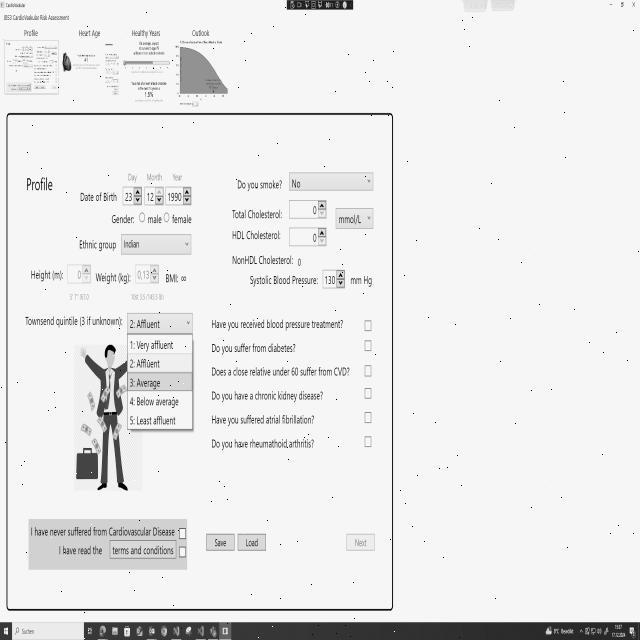button: (107, 539, 176, 566), (344, 528, 378, 558), (235, 529, 270, 556), (204, 528, 236, 557), (627, 0, 640, 13), (605, 0, 617, 13), (617, 0, 627, 13)
checkbox: (363, 434, 374, 450), (364, 362, 374, 378), (364, 410, 374, 426), (363, 317, 372, 334), (178, 526, 188, 540), (364, 386, 373, 401), (178, 544, 187, 559), (364, 339, 372, 355)
dropdownMenu: (127, 312, 196, 434), (288, 169, 377, 195), (120, 232, 194, 256), (334, 204, 374, 232), (554, 626, 583, 636)
icon: (173, 625, 180, 637), (210, 626, 217, 638), (185, 626, 192, 637), (100, 625, 106, 637), (161, 625, 167, 637), (630, 626, 636, 638), (124, 626, 130, 637), (149, 625, 155, 636), (112, 626, 118, 636), (136, 626, 142, 636), (198, 626, 204, 636), (546, 626, 552, 635), (88, 626, 92, 636), (585, 626, 589, 636), (604, 627, 609, 635), (596, 628, 602, 634), (4, 627, 8, 635), (592, 628, 596, 635)
input: (12, 621, 83, 640)
label: (210, 359, 352, 381), (208, 383, 328, 408), (208, 315, 346, 335), (28, 519, 176, 537), (209, 433, 319, 455), (208, 410, 318, 429), (22, 312, 124, 331), (210, 339, 304, 358), (247, 268, 320, 291), (234, 172, 284, 199), (229, 253, 304, 271), (228, 205, 284, 224), (76, 182, 120, 206), (21, 167, 57, 196), (2, 11, 76, 25), (228, 228, 285, 246), (26, 261, 64, 282), (57, 544, 106, 560), (94, 267, 132, 287), (77, 234, 117, 252), (128, 290, 168, 308), (165, 266, 195, 287), (128, 22, 166, 38), (350, 271, 381, 290), (107, 210, 137, 228), (172, 210, 197, 229), (63, 288, 93, 303), (77, 23, 104, 38), (188, 24, 216, 38), (169, 162, 185, 182), (124, 165, 138, 184), (146, 168, 164, 182), (147, 212, 162, 228), (24, 28, 39, 38)
menu: (0, 621, 640, 640)
menuItem: (128, 392, 182, 410), (127, 376, 178, 392), (130, 338, 181, 353), (128, 358, 178, 372), (127, 414, 184, 426)
radio: (162, 210, 170, 225), (138, 211, 146, 224)
tabControl: (220, 622, 231, 640)
upDown: (289, 223, 328, 251), (287, 198, 327, 221), (320, 266, 347, 292), (165, 183, 195, 206), (66, 260, 92, 286), (134, 261, 160, 287), (143, 185, 165, 206), (122, 185, 142, 206)
